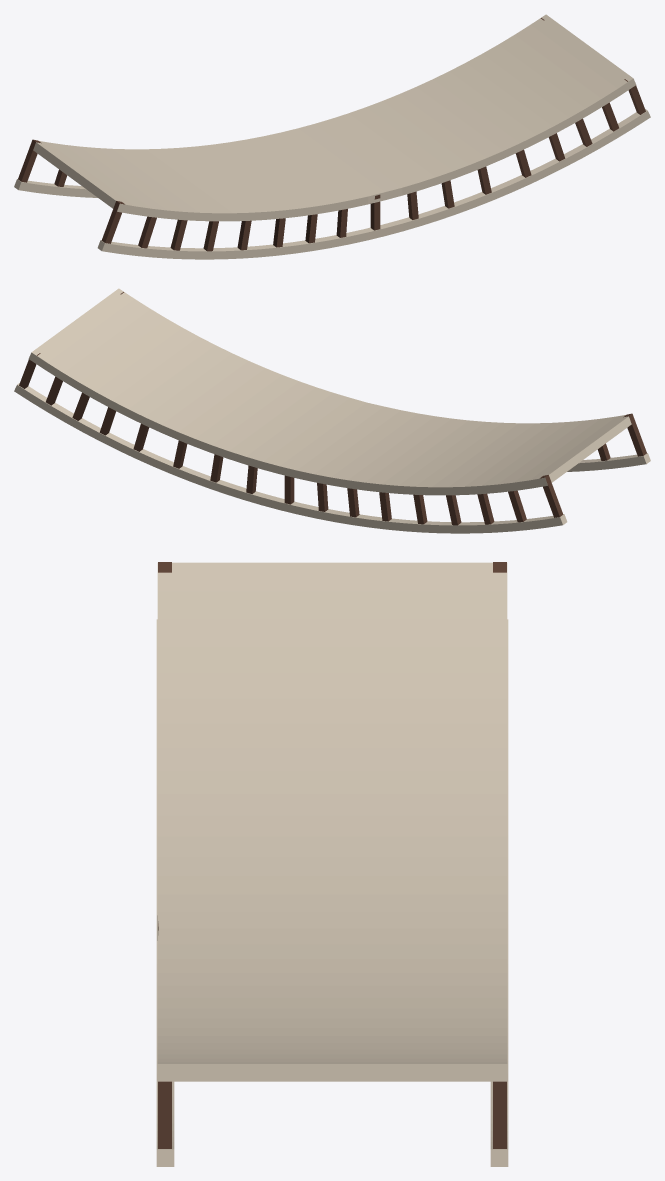
File: Bridge.fbx
3 renders of one model, top to bottom at view 1: azimuth 30°, elevation 25°; view 2: azimuth 150°, elevation 25°; view 3: azimuth 270°, elevation 25°, orthographic. The views are drawn at different scales.
Parts seen in each view (by area): view 1: Bridge; view 2: Bridge; view 3: Bridge.
Boxes of the visible parts, x1=… form: Bridge: x1=14, y1=14, x2=650, y2=259; Bridge: x1=14, y1=288, x2=650, y2=533; Bridge: x1=156, y1=562, x2=508, y2=1166.
Size of what is drawn, in the model's own units: 14503 by 2456 by 4020.
